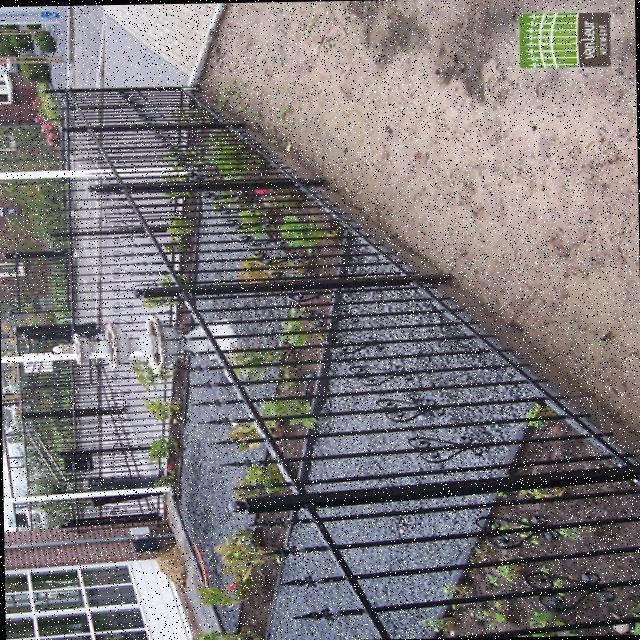fence line: (240, 380, 639, 631), (49, 78, 215, 531), (193, 222, 542, 379), (92, 106, 313, 272)
